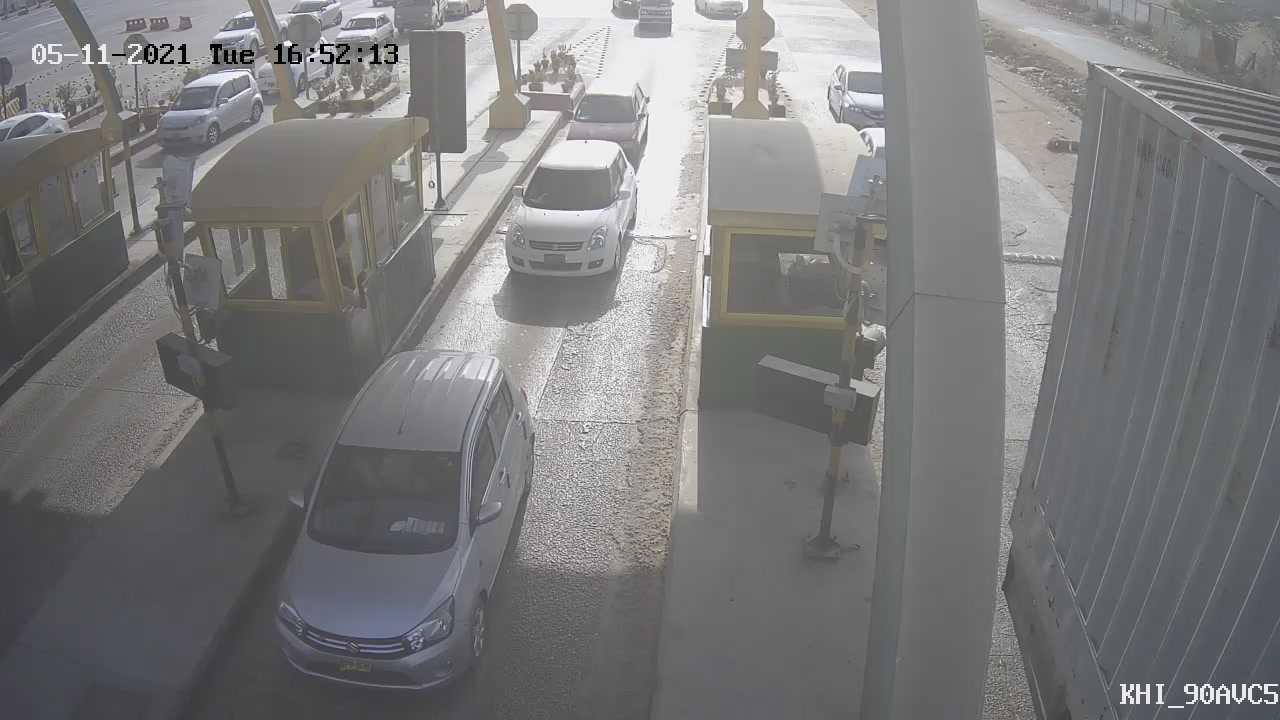F1: (486, 120, 668, 304)
